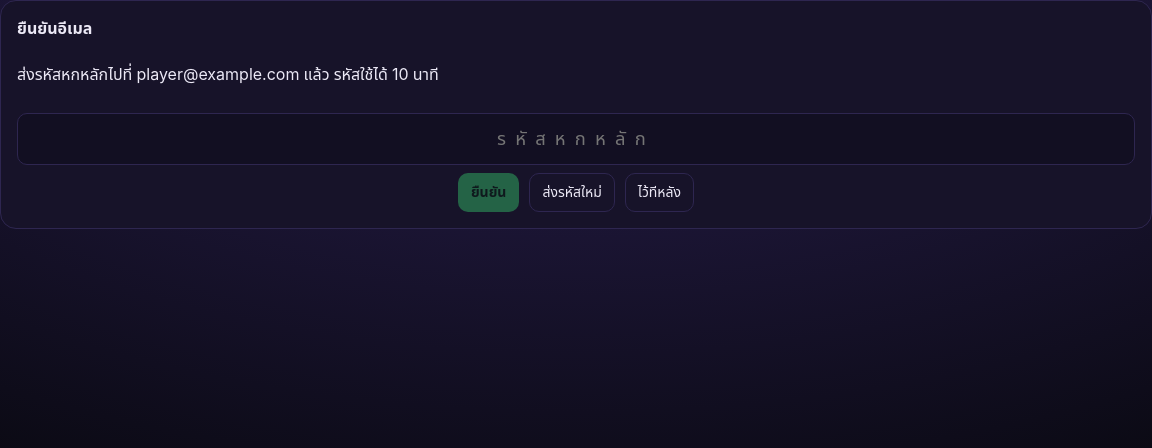
กรอกได้เฉพาะตัวเลข
The image size is (1152, 448).
Type "12ab34" into the field labelled "รหัสหกหลัก". click: (576, 139)
box: left=17, top=113, right=1135, bottom=165
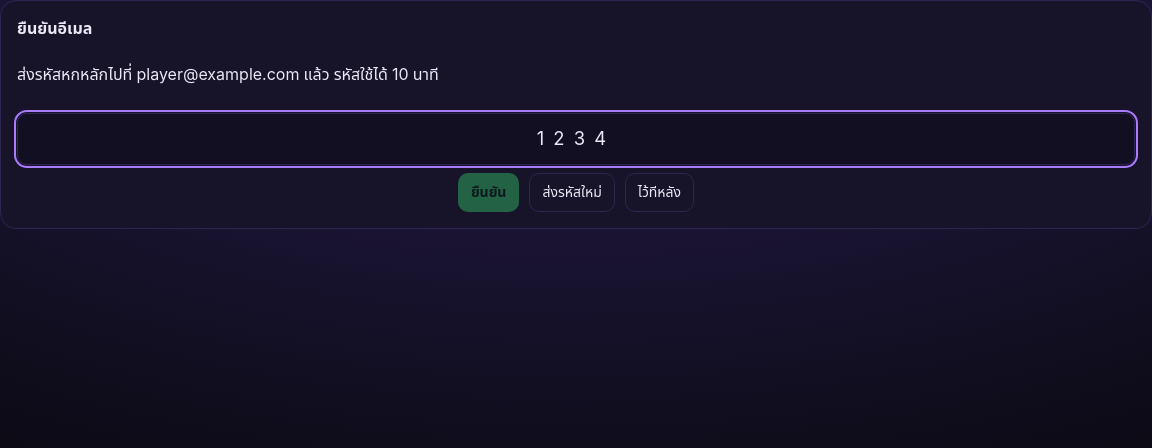
Check: the field named "รหัสหกหลัก" holds "1234", box left=17, top=113, right=1135, bottom=165
